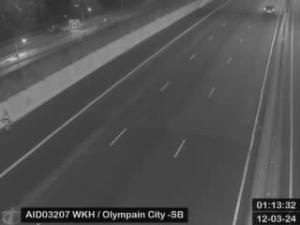vehicle: (262, 6, 278, 16)
